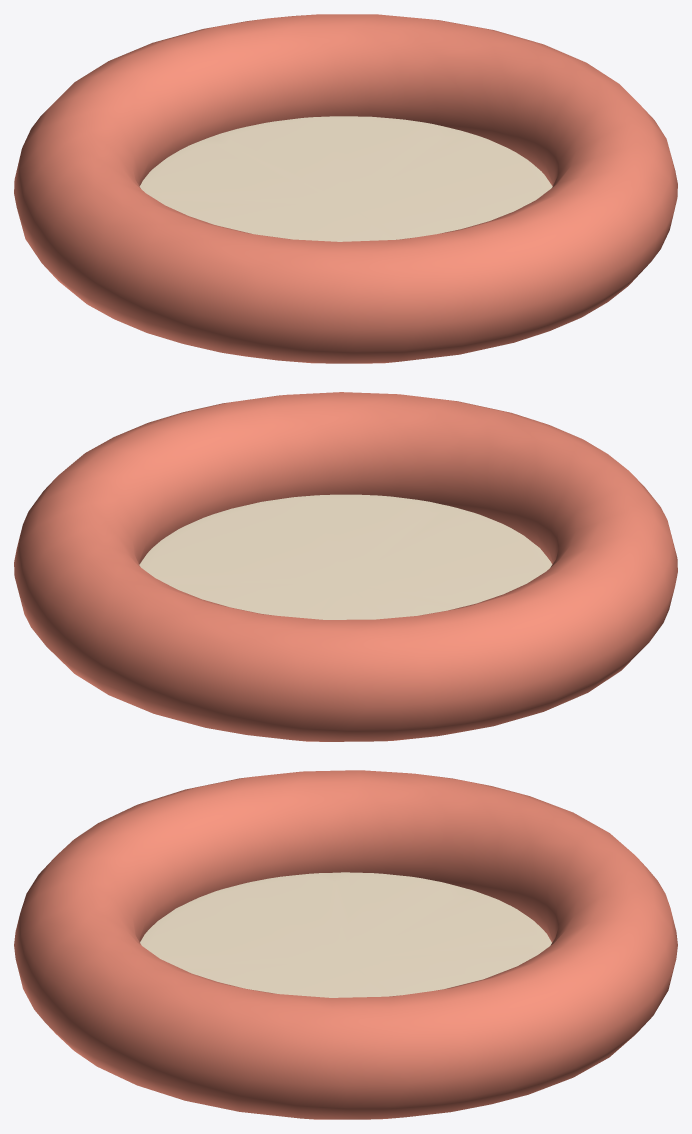
File: plates_b.glb
3 renders of one model, top to bottom at view 1: azimuth 30°, elevation 25°; view 2: azimuth 150°, elevation 25°; view 3: azimuth 270°, elevation 25°, orthographic.
Visible parts, largest first — view 1: body; view 2: body; view 3: body.
Boxes of the visible parts, box(x1,y1,x2,y2) form: body: box(14, 14, 677, 363); body: box(14, 392, 677, 741); body: box(14, 770, 677, 1119).
Size of the model in its own units: 0.234 by 0.0434 by 0.234.
